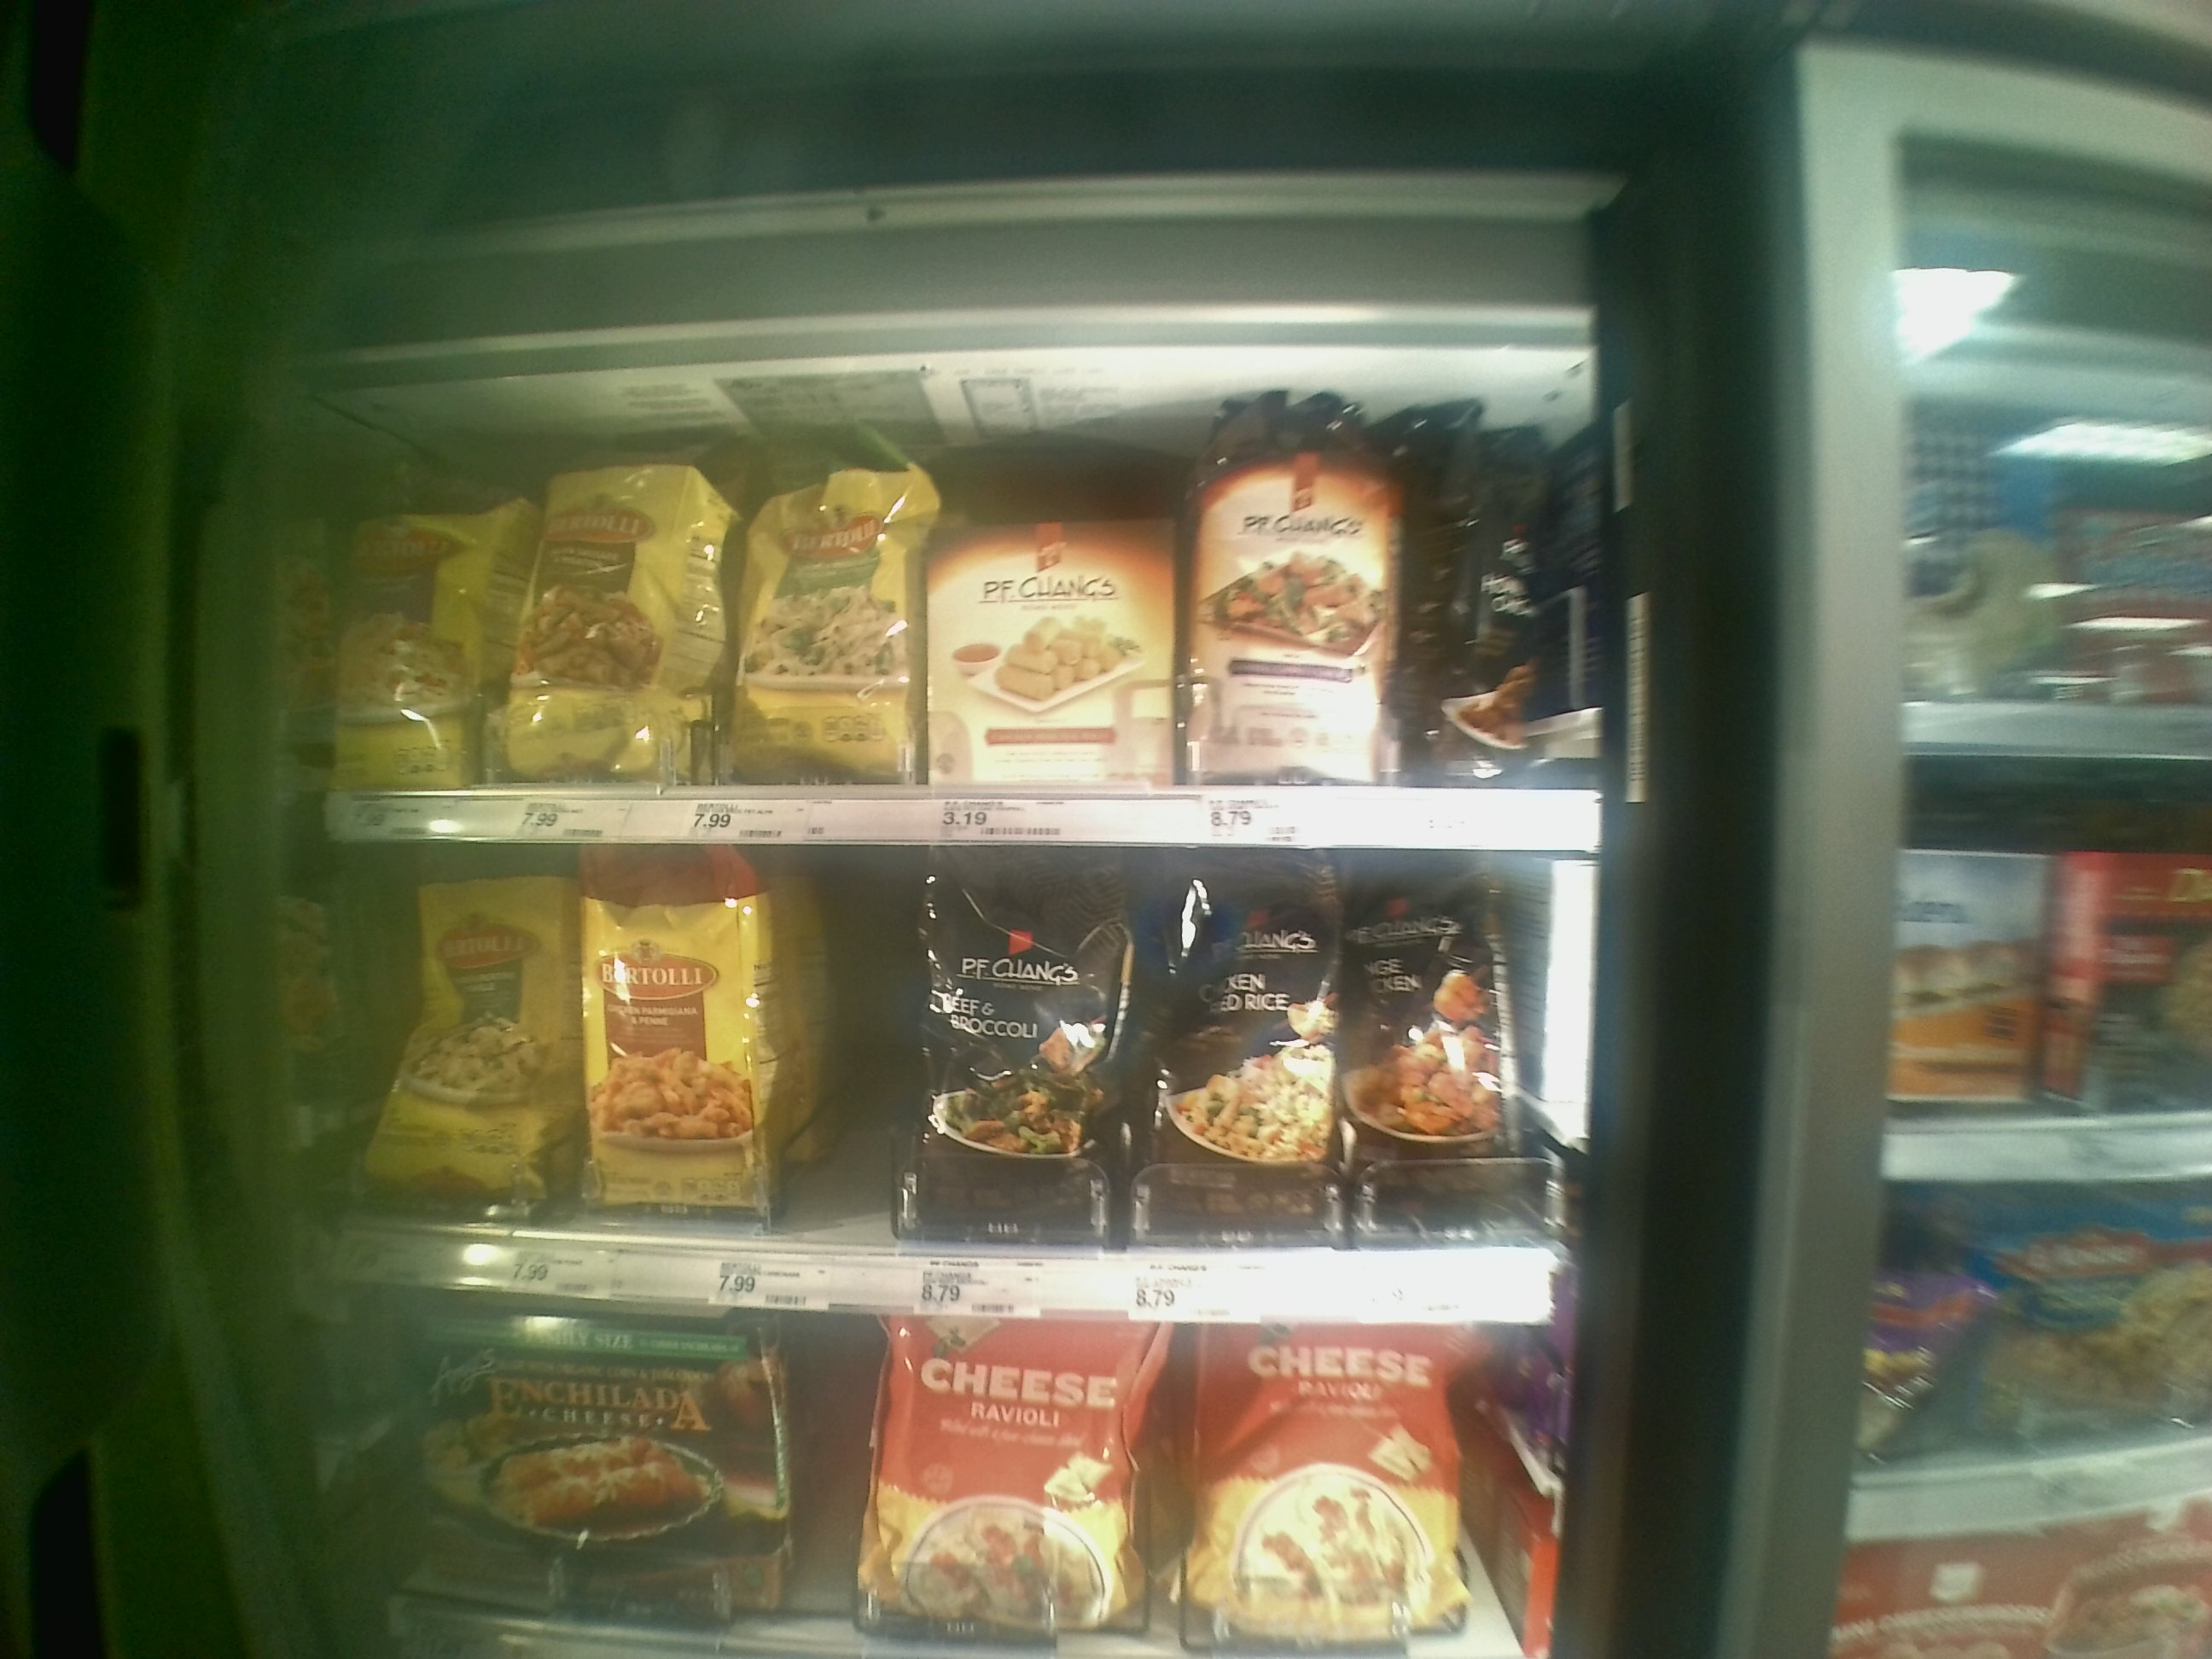shelf: (314, 850, 1554, 1323), (327, 458, 1602, 849)
